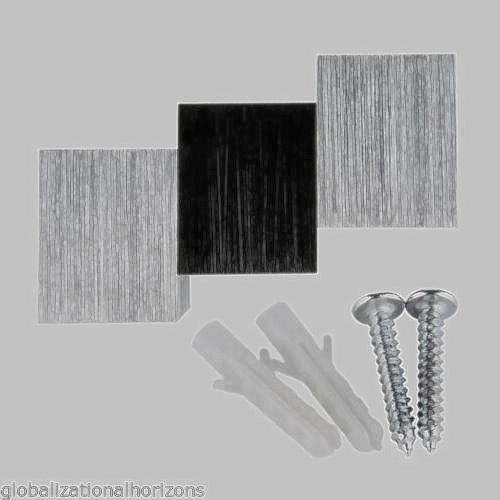lamp: (49, 58, 449, 301)
